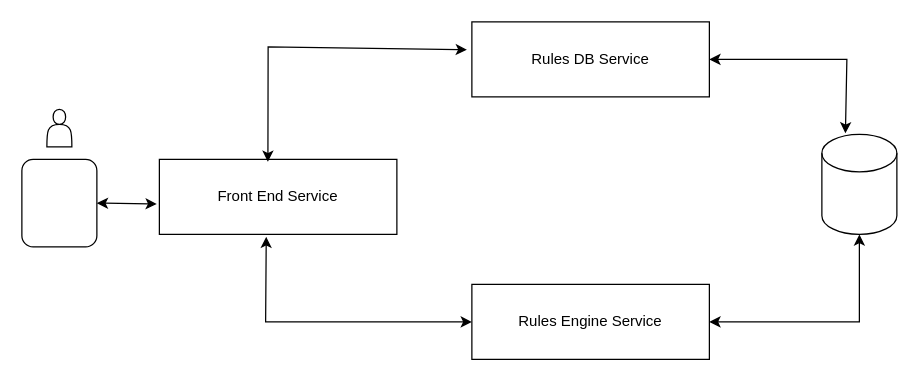
Image size: 919x381. Some labels were removed from this diagram. The shapes that lost their labels are listed below. From the top down, each one's centre as x and y in pixels, then its label:
At (x=59, y=202): "UI".
At (x=859, y=183): "RulesFile".
